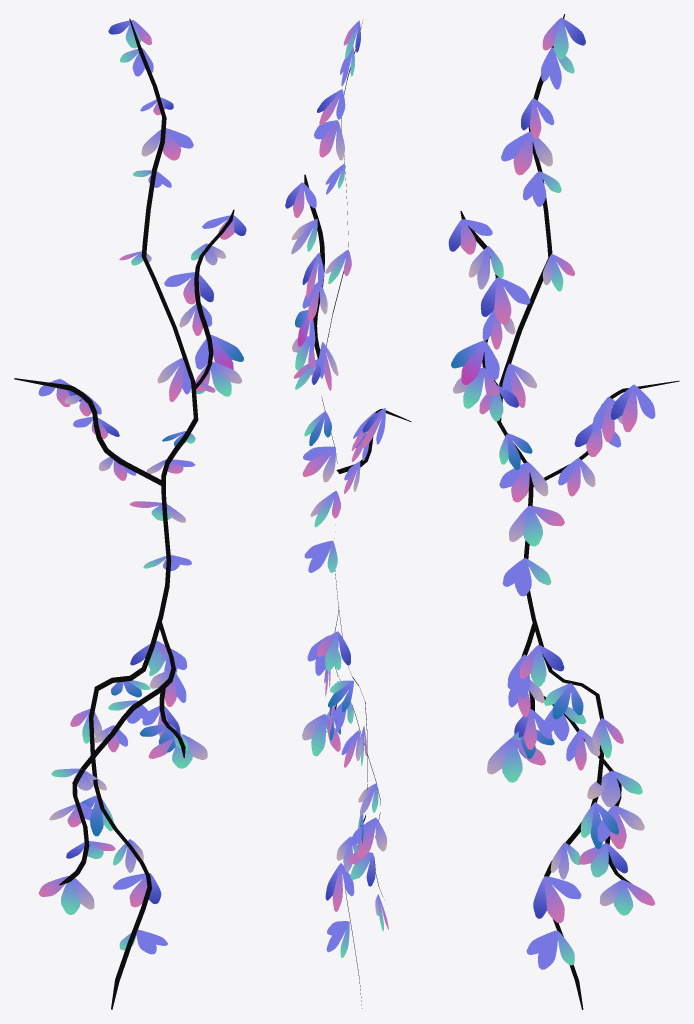
Rendered from SM_ivy_l_straight_B.FBX.
3 views of the same model, side by side, from view 1: azimuth 90°, elevation 25°; view 2: azimuth 210°, elevation 25°; view 3: azimuth 270°, elevation 25° (orthographic).
Parts seen in each view (by area): view 1: SM_ivy_l_straight_B; view 2: SM_ivy_l_straight_B; view 3: SM_ivy_l_straight_B.
Boxes of the visible parts, x1=… form: SM_ivy_l_straight_B: x1=14, y1=18, x2=246, y2=1009; SM_ivy_l_straight_B: x1=285, y1=19, x2=411, y2=1008; SM_ivy_l_straight_B: x1=448, y1=14, x2=679, y2=1009.
Bounding box in the file's own units: 38.8 × 896 × 196.
2 materials, 1 textured.
